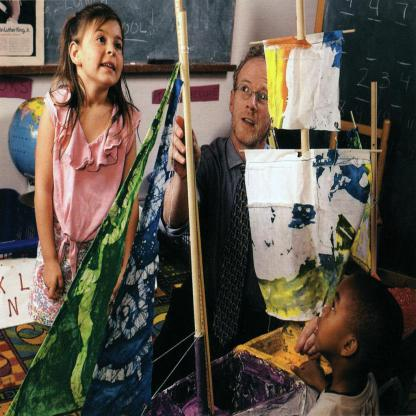face: (317, 279, 359, 357), (235, 61, 272, 138), (83, 15, 123, 83)
